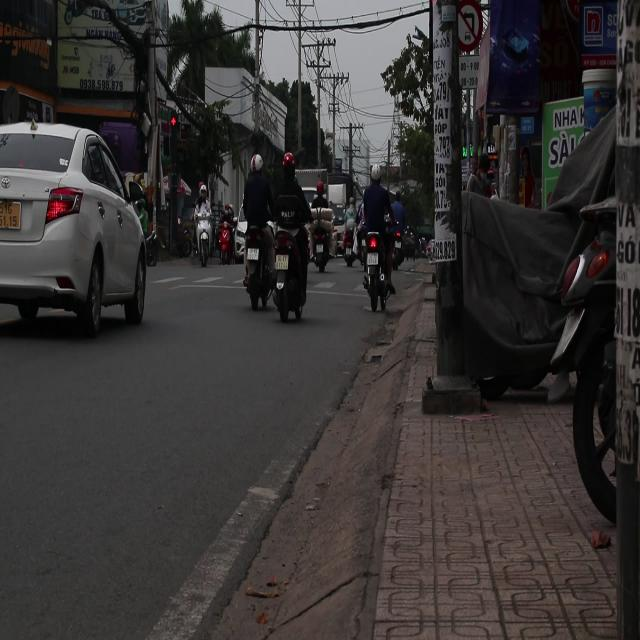car: (0, 119, 153, 338)
motorbike: (266, 219, 312, 323), (359, 207, 398, 312), (241, 223, 276, 312), (192, 205, 214, 274), (307, 216, 333, 274), (341, 224, 356, 263)
